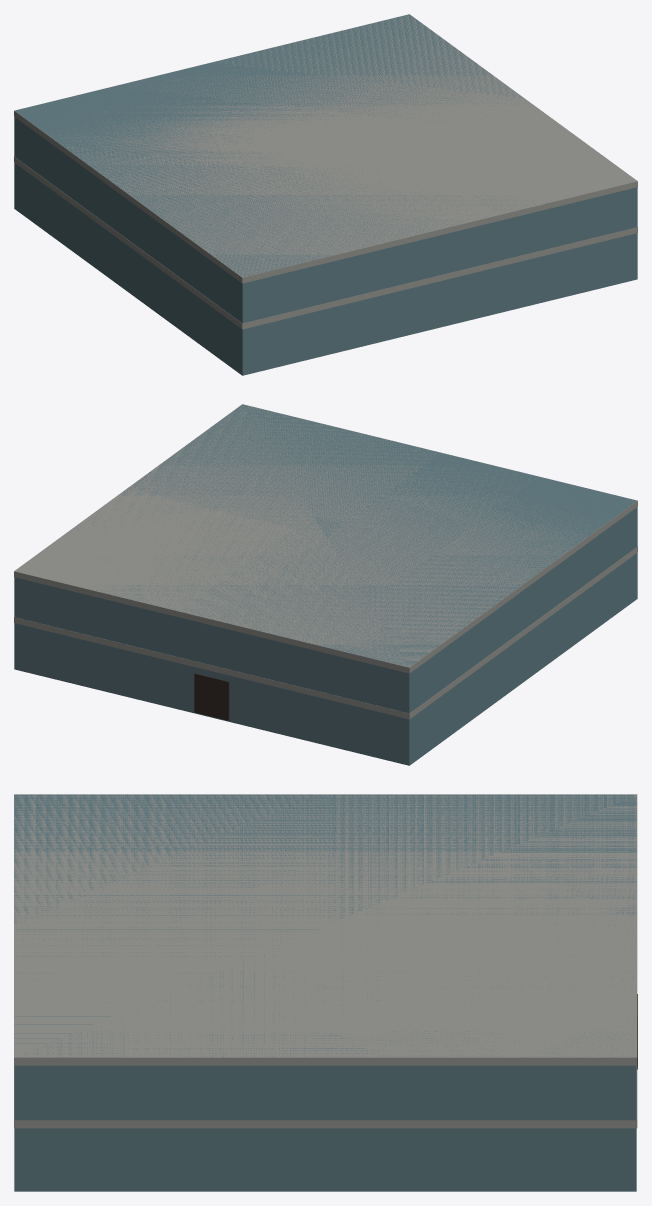
Rendered from tw_glass_32_base_lod1.glb.
3 renders of one model, top to bottom at view 1: azimuth 30°, elevation 25°; view 2: azimuth 150°, elevation 25°; view 3: azimuth 270°, elevation 25°, orthographic. The views are drawn at different scales.
Parts seen in each view (by area): view 1: tw_glass_32_base_lod1; view 2: tw_glass_32_base_lod1; view 3: tw_glass_32_base_lod1.
Boxes of the visible parts, x1,y1,x2,y2 form: tw_glass_32_base_lod1: (14, 14, 637, 375); tw_glass_32_base_lod1: (14, 404, 637, 765); tw_glass_32_base_lod1: (14, 794, 637, 1191).
Size of the model in its own units: 32.04 by 7.6 by 32.08.
2 materials, 2 textured.
